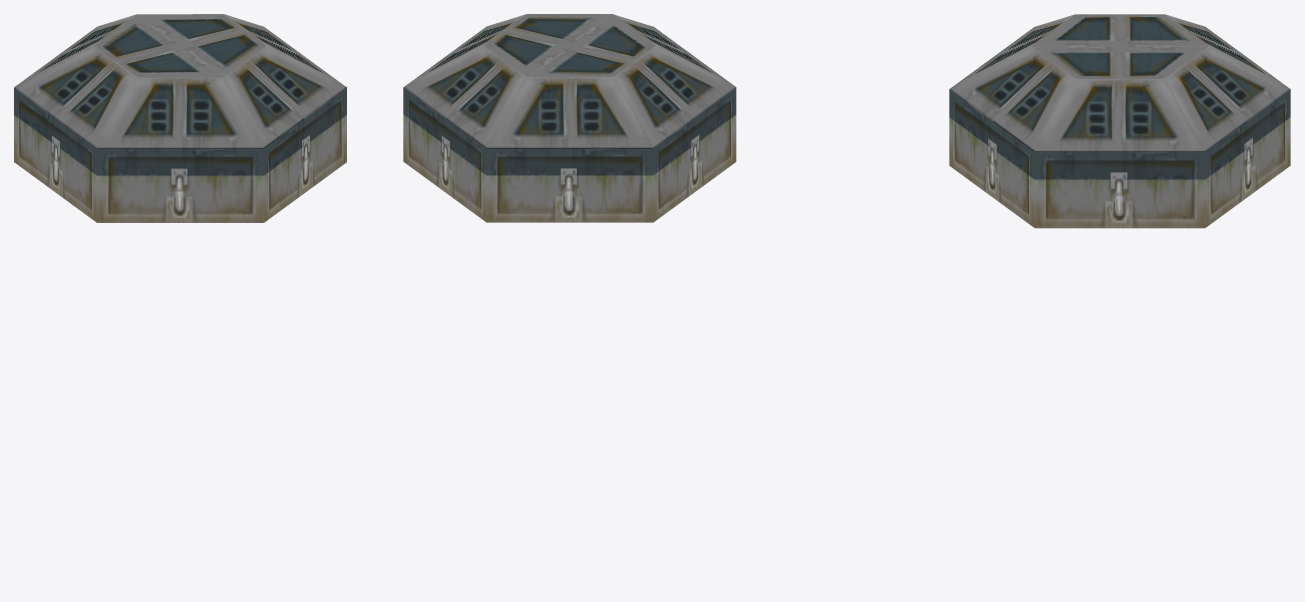
Rendered from autocannonpopup.glb.
3 renders of one model, left to right at view 1: azimuth 30°, elevation 25°; view 2: azimuth 150°, elevation 25°; view 3: azimuth 270°, elevation 25°, orthographic. The views are drawn at different scales.
Parts seen in each view (by area): view 1: Doorbase, Door05, Door06, Door03, Door02; view 2: Doorbase, Door02, Door06, Door03, Door05; view 3: Doorbase, Door03, Door02, Door05, Door06.
Part boxes in pixels (x1=…): Doorbase: x1=14, y1=30, x2=346, y2=222; Door05: x1=97, y1=45, x2=346, y2=148; Door06: x1=14, y1=14, x2=223, y2=148; Door03: x1=138, y1=14, x2=344, y2=85; Door02: x1=15, y1=14, x2=236, y2=86; Doorbase: x1=403, y1=26, x2=736, y2=222; Door02: x1=404, y1=45, x2=652, y2=147; Door06: x1=527, y1=14, x2=735, y2=147; Door03: x1=404, y1=14, x2=612, y2=86; Door05: x1=499, y1=14, x2=734, y2=86; Doorbase: x1=949, y1=27, x2=1290, y2=228; Door03: x1=1032, y1=46, x2=1207, y2=151; Door02: x1=1164, y1=14, x2=1290, y2=151; Door05: x1=950, y1=14, x2=1075, y2=151; Door06: x1=1031, y1=14, x2=1207, y2=46.
Bounding box in the file's own units: 7.27 × 13.6 × 12.21.
Materials: 4 (4 with a texture image).
